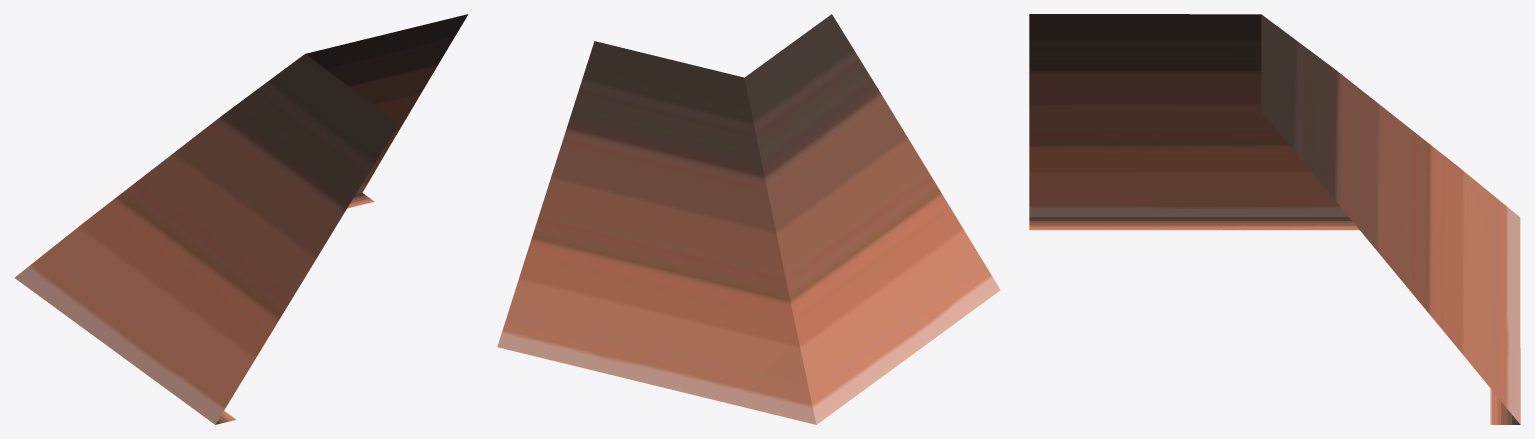
The model's file is Roof_Base_Corner.fbx.
The picture shows the model from 3 angles, left to right: view 1: azimuth 30°, elevation 25°; view 2: azimuth 150°, elevation 25°; view 3: azimuth 270°, elevation 25°; orthographic projection. The views are drawn at different scales.
Visible parts, largest first — view 1: Corner_Roof; view 2: Corner_Roof; view 3: Corner_Roof.
Part boxes in pixels (<box>): Corner_Roof: <box>14,14,468,424</box>; Corner_Roof: <box>497,14,1000,424</box>; Corner_Roof: <box>1029,14,1520,424</box>.
Bounding box in the file's own units: 426 × 300 × 426.
